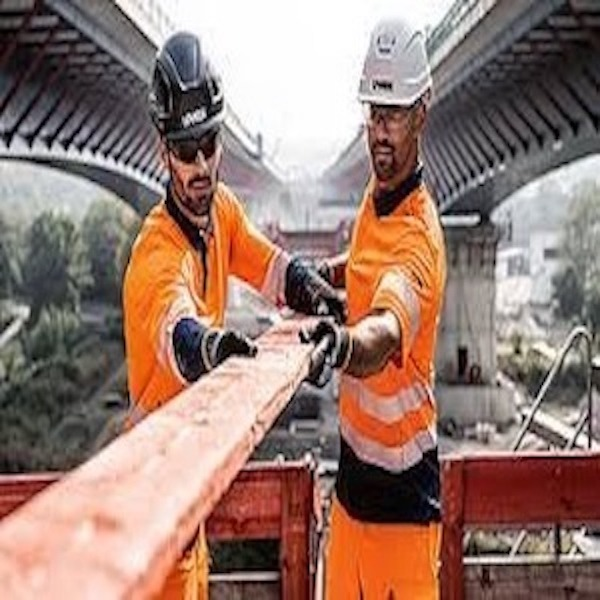helmet: (158, 30, 228, 142), (357, 20, 435, 104)
